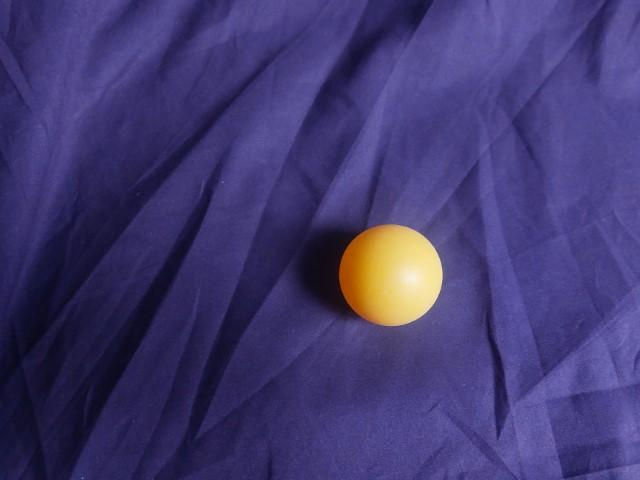oball: (183, 145, 308, 267)
